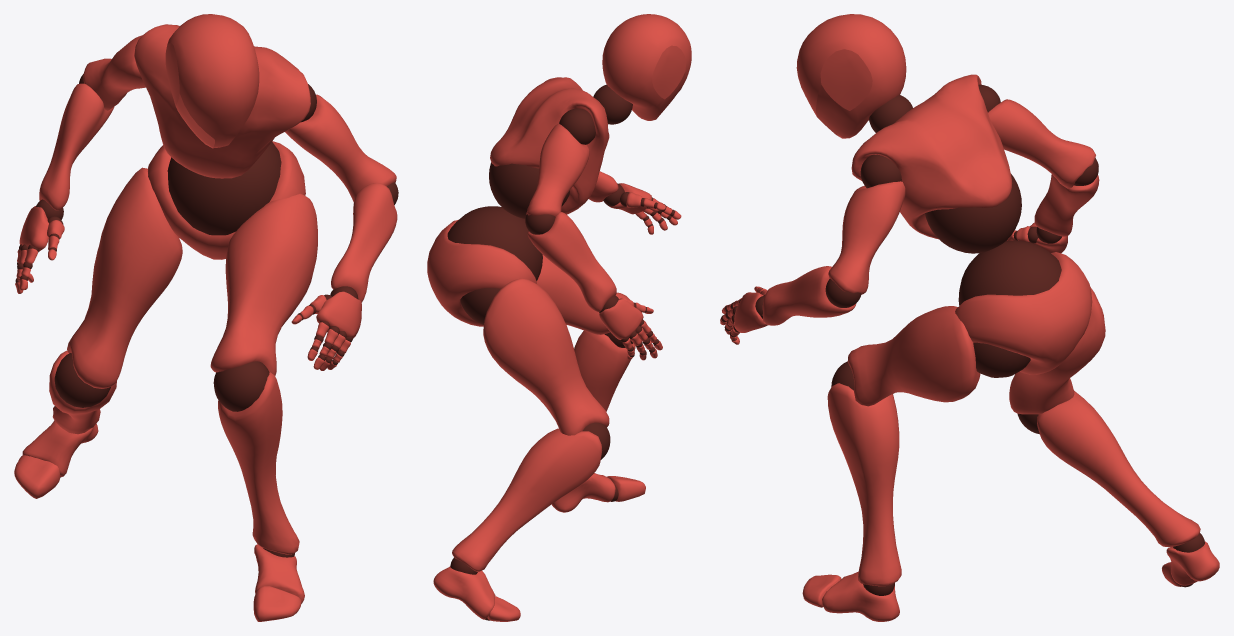
The picture shows the model from 3 angles, left to right: view 1: azimuth 30°, elevation 25°; view 2: azimuth 150°, elevation 25°; view 3: azimuth 270°, elevation 25°; orthographic projection. The views are drawn at different scales.
Visible parts, largest first — view 1: Beta_Surface, Beta_Joints; view 2: Beta_Surface, Beta_Joints; view 3: Beta_Surface, Beta_Joints.
Part boxes in pixels (x1,y1,x2,y2): Beta_Surface: (14,14,397,621); Beta_Joints: (15,74,398,557); Beta_Surface: (427,14,691,621); Beta_Joints: (447,84,674,620); Beta_Surface: (720,14,1219,621); Beta_Joints: (721,84,1204,595).
Bounding box in the file's own units: 0.69 × 1.38 × 1.11.
